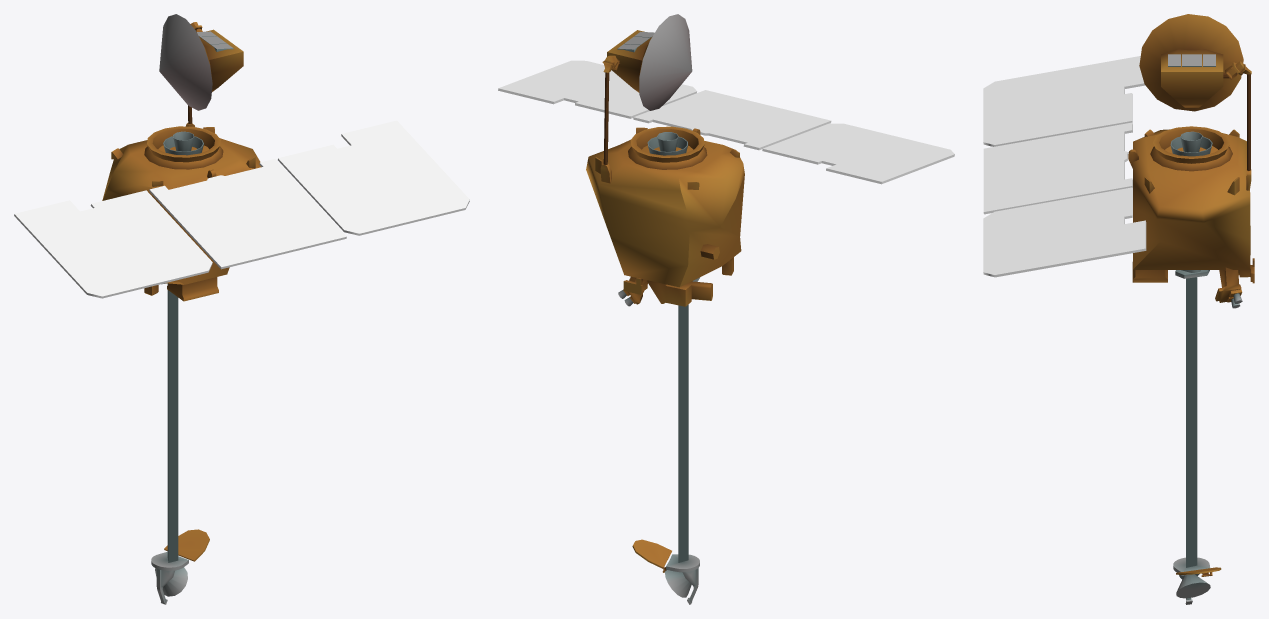
Rendered from space-satellites-satellite_v12.glb.
3 views of the same model, side by side, from view 1: azimuth 30°, elevation 25°; view 2: azimuth 150°, elevation 25°; view 3: azimuth 270°, elevation 25° (orthographic). The views are drawn at different scales.
Visible parts, largest first — view 1: Satellite_v12; view 2: Satellite_v12; view 3: Satellite_v12.
Boxes of the visible parts, x1,y1,x2,y2 form: Satellite_v12: [14, 14, 469, 604]; Satellite_v12: [498, 14, 954, 604]; Satellite_v12: [983, 14, 1254, 604].
Size of the model in its own units: 5.52 by 8 by 3.27.
